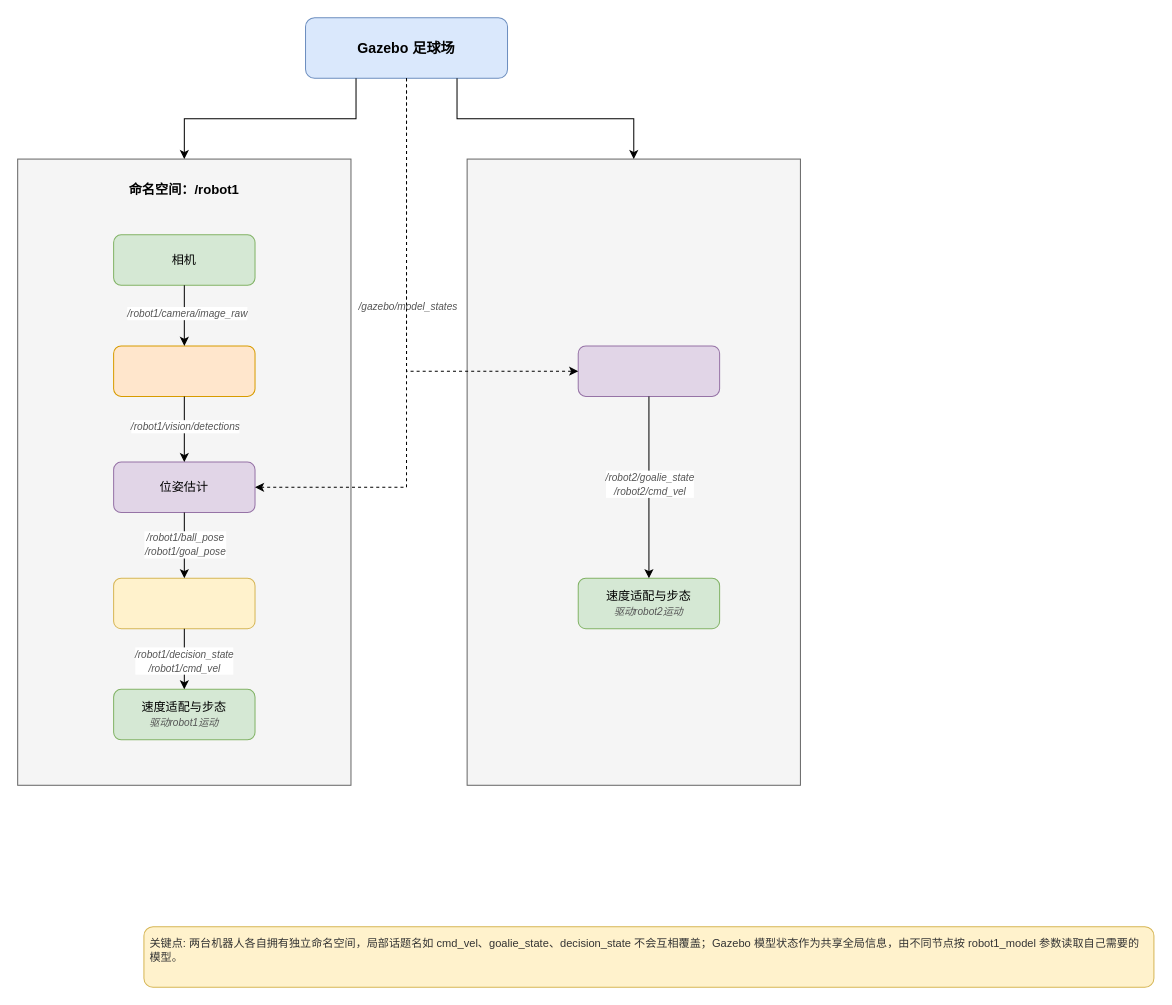
Some shapes in this 1172 by 1005 pixel diagram are drawn without their labels. The shapes that lost their labels are listed below. From the top down, each one's box as (x1, y1, x2, y2) in pixels, then its label:
(113, 345, 255, 396): Hough 检测
(577, 345, 720, 396): 守门决策
(466, 158, 800, 785): 命名空间：/robot2
(113, 577, 255, 629): FSM 决策
